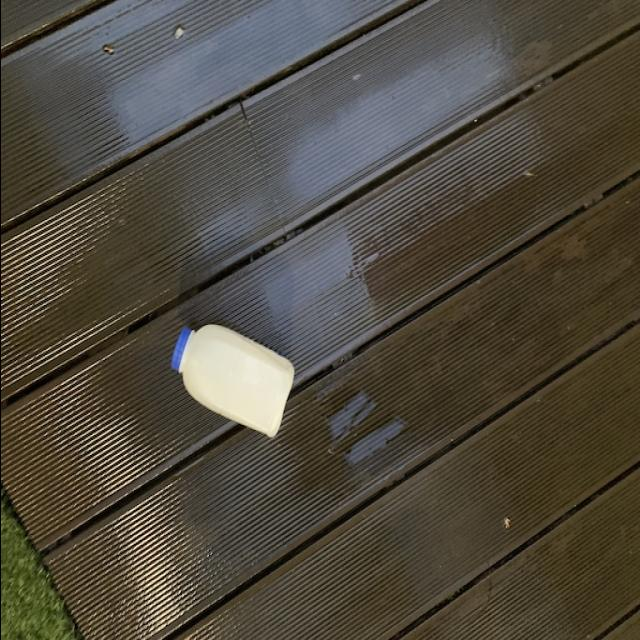HDPEM: (170, 320, 296, 444)
